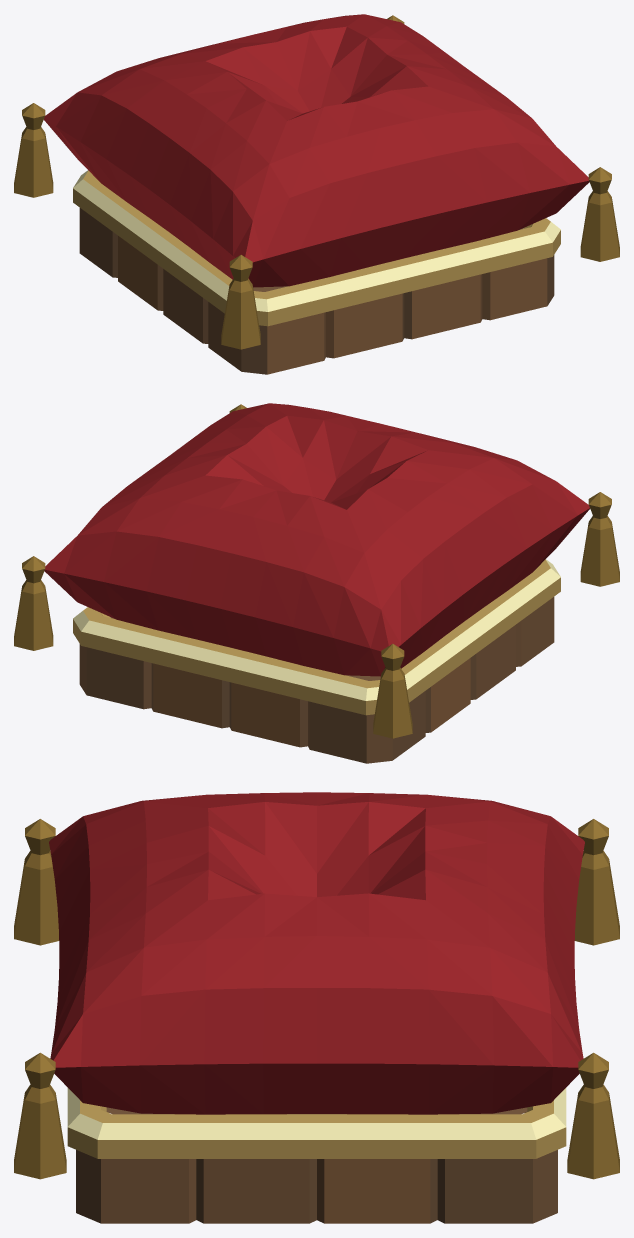
File: gem-display-cushion-024541.glb
3 views of the same model, one above another, from view 1: azimuth 30°, elevation 25°; view 2: azimuth 150°, elevation 25°; view 3: azimuth 270°, elevation 25° (orthographic). The views are drawn at different scales.
Parts seen in each view (by area): view 1: cushion-body, plinth-rim; view 2: cushion-body, plinth-rim; view 3: cushion-body, plinth-rim.
Part boxes in pixels (x1=…): cushion-body: x1=14, y1=14, x2=619, y2=374; plinth-rim: x1=73, y1=170, x2=560, y2=326; cushion-body: x1=14, y1=403, x2=619, y2=763; plinth-rim: x1=73, y1=559, x2=560, y2=715; cushion-body: x1=14, y1=792, x2=619, y2=1223; plinth-rim: x1=67, y1=1088, x2=566, y2=1158.
Size of the model in its own units: 0.293 by 0.1443 by 0.2891.
